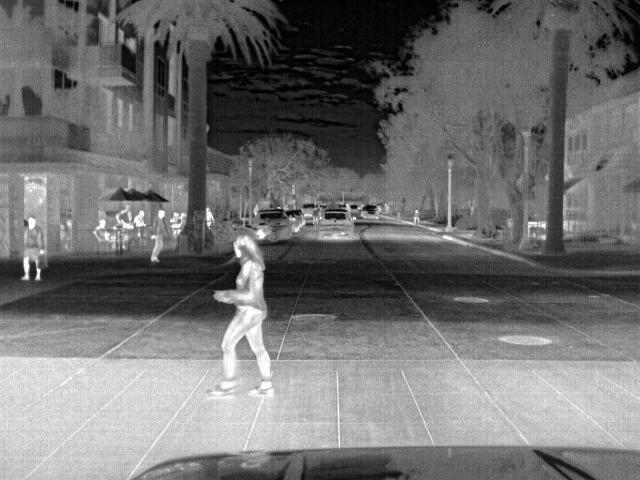car: (314, 207, 352, 241), (255, 207, 292, 239), (356, 204, 382, 220), (283, 211, 302, 229), (301, 201, 316, 220)
person: (208, 232, 277, 396), (18, 215, 46, 280), (147, 207, 168, 264), (94, 218, 110, 240), (131, 208, 148, 228), (204, 205, 216, 231), (409, 206, 422, 226)
